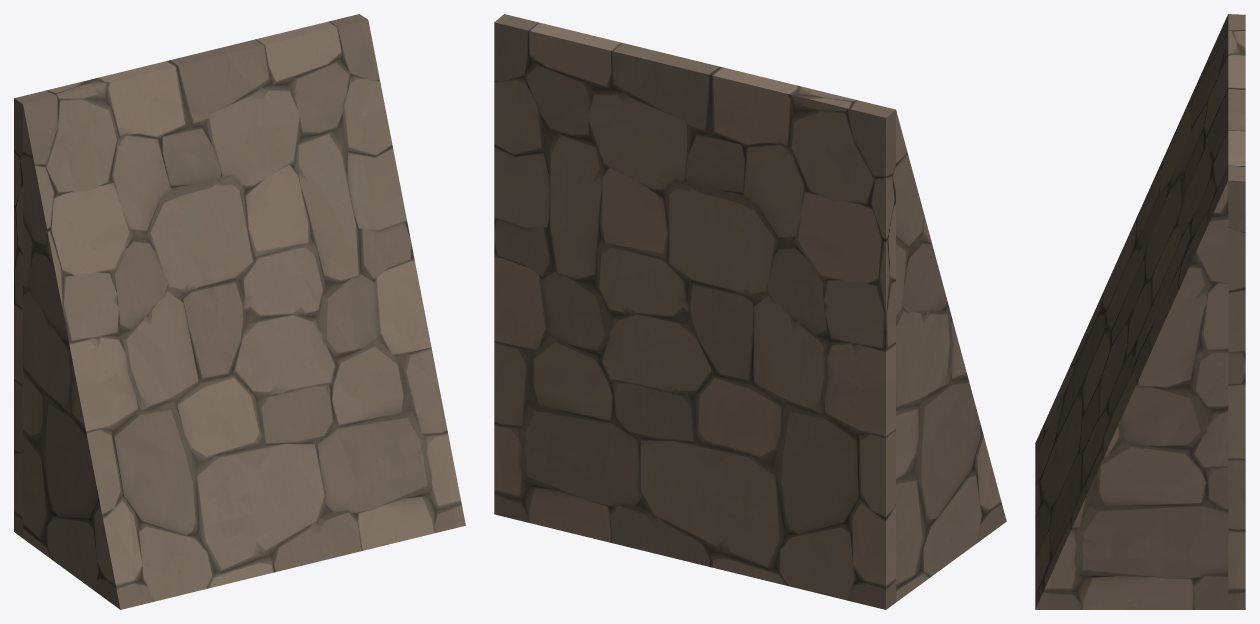
Rendered from SM_Bld_Wall_Slope_01.fbx.
The picture shows the model from 3 angles, left to right: view 1: azimuth 30°, elevation 25°; view 2: azimuth 150°, elevation 25°; view 3: azimuth 270°, elevation 25°; orthographic projection. The views are drawn at different scales.
Visible parts, largest first — view 1: SM_Bld_Wall_Slope_01; view 2: SM_Bld_Wall_Slope_01; view 3: SM_Bld_Wall_Slope_01.
Boxes of the visible parts, left/top/right/bottom form: SM_Bld_Wall_Slope_01: left=14, top=14, right=465, bottom=609; SM_Bld_Wall_Slope_01: left=494, top=14, right=1006, bottom=609; SM_Bld_Wall_Slope_01: left=1035, top=14, right=1245, bottom=609.
Size of the model in its own units: 500 by 601 by 267.
1 material, 1 textured.
